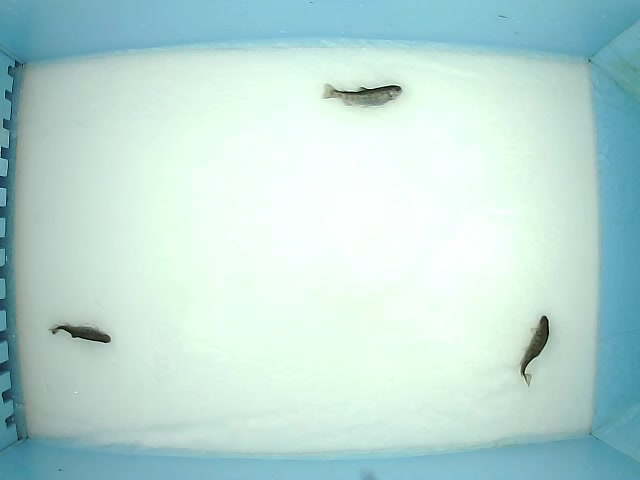fish: (518, 314, 551, 389), (321, 81, 404, 110), (47, 321, 112, 344)
